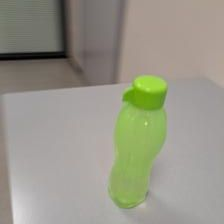bottle: (104, 72, 169, 210)
